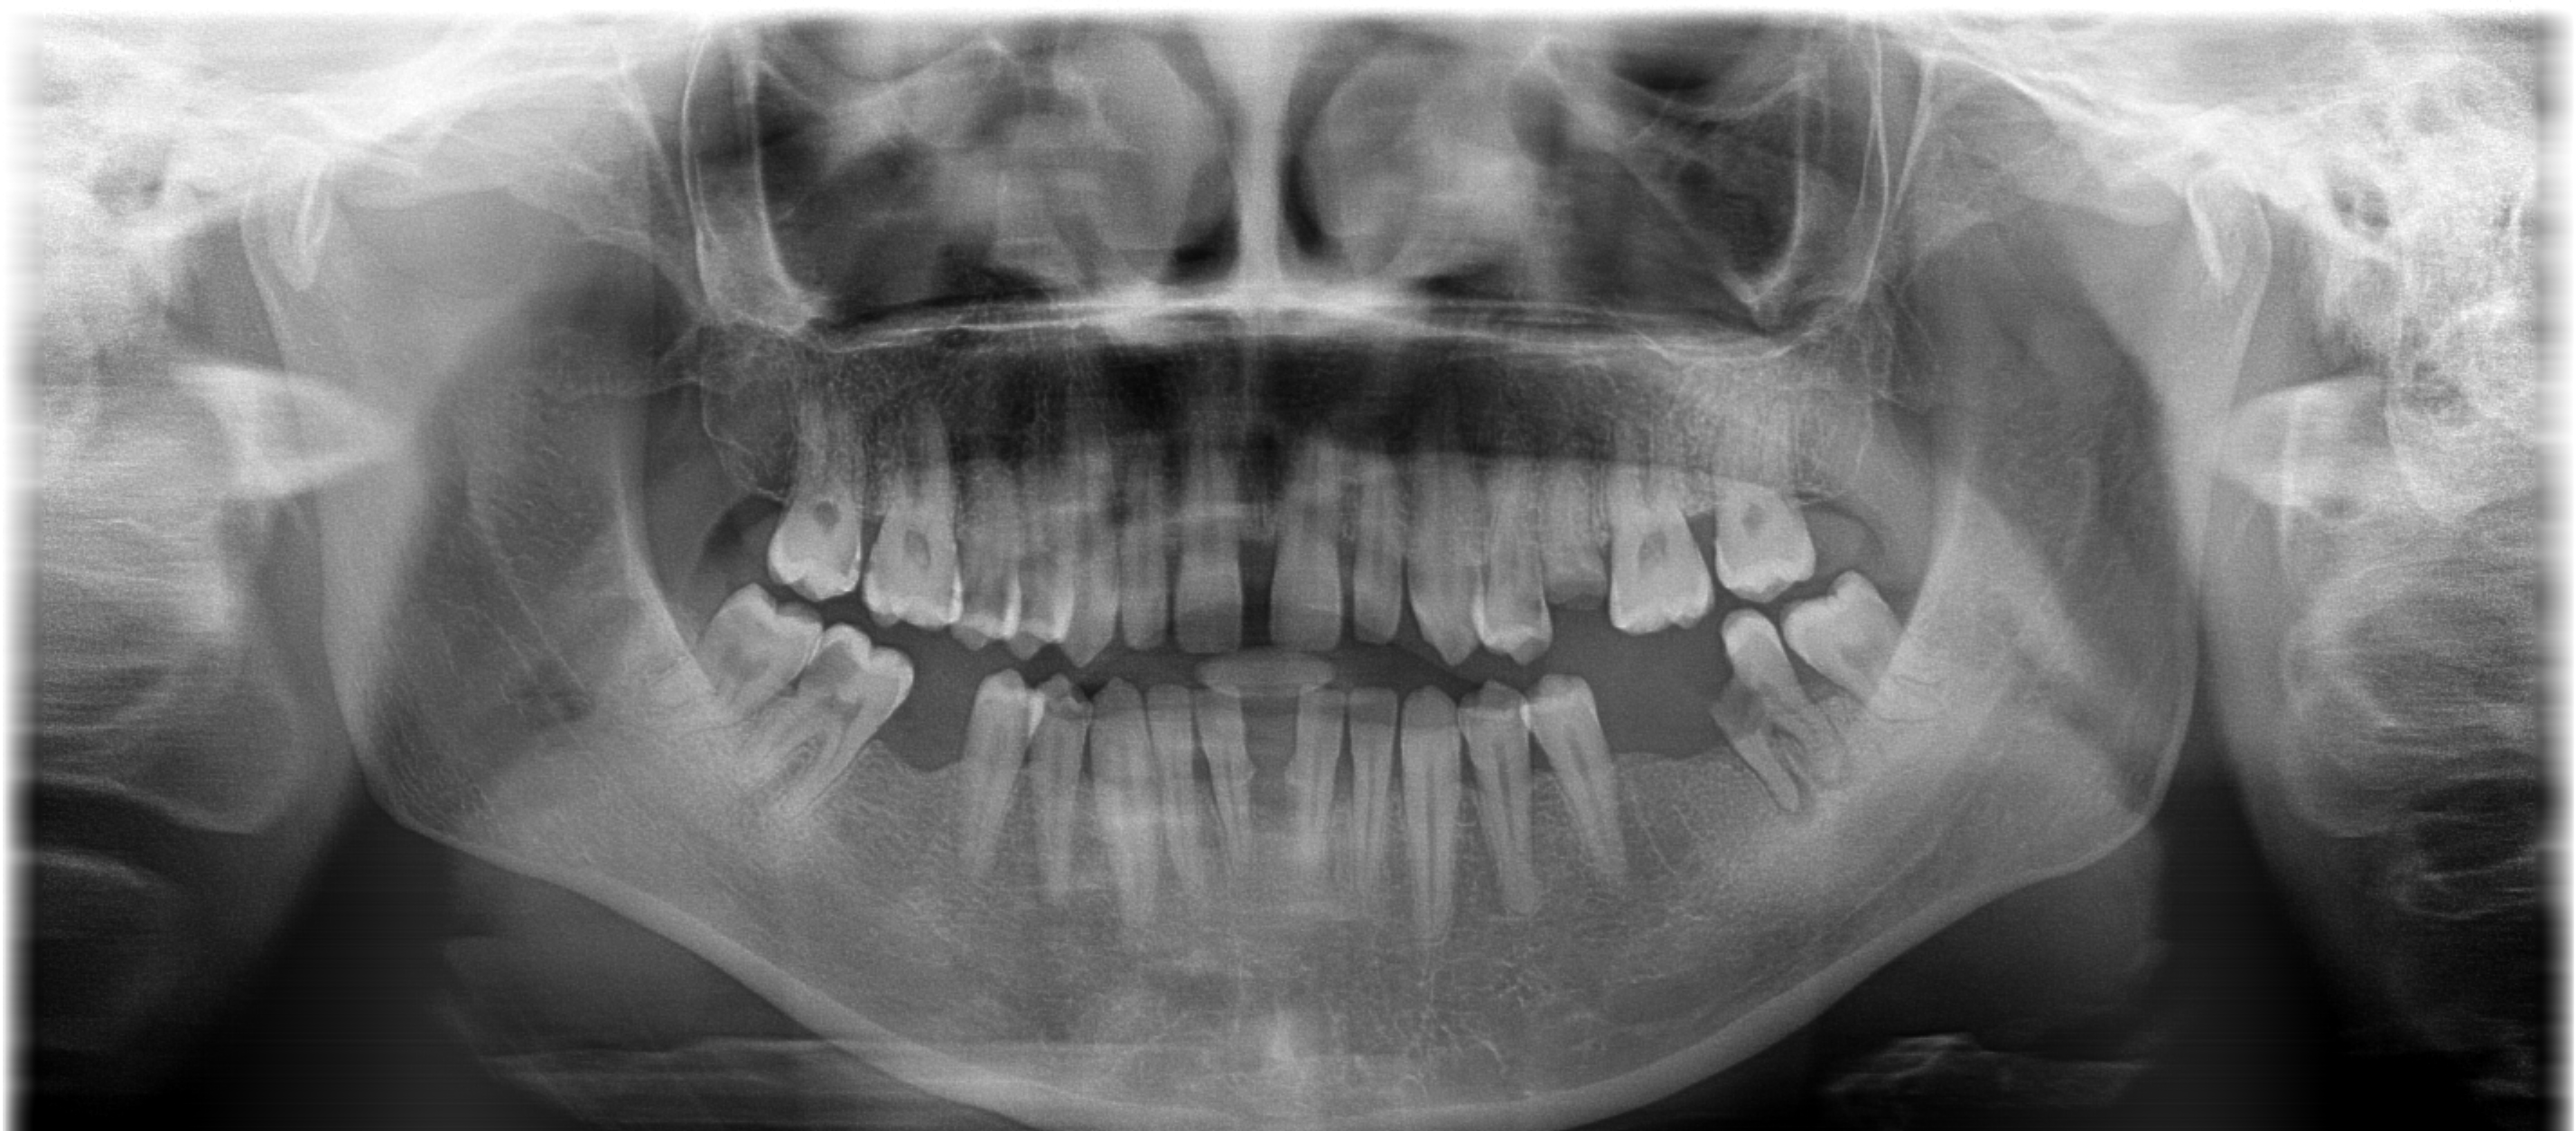cordal: (1766, 552, 1973, 735), (646, 564, 851, 746)
diastema: (1221, 449, 1306, 666)
enanismo_radicular: (1523, 431, 1635, 630)
fractura: (1671, 615, 1815, 741)
zona_dentula: (828, 646, 1048, 824), (1546, 638, 1764, 815)
